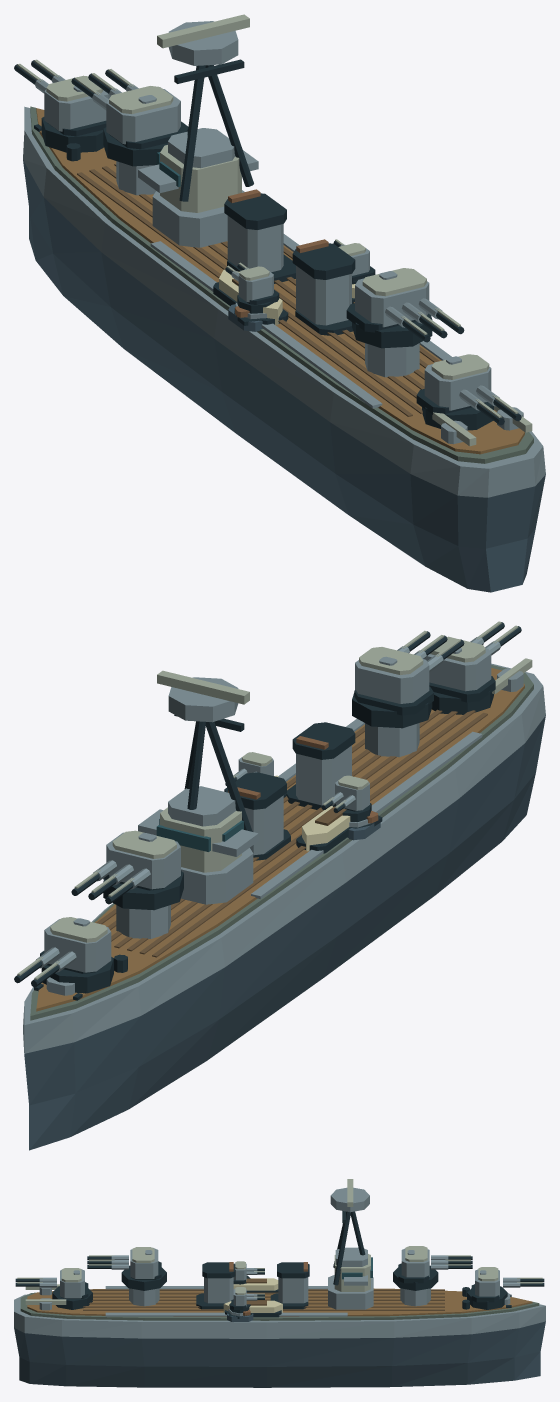
File: historic-pensacola.glb
3 renders of one model, top to bottom at view 1: azimuth 30°, elevation 25°; view 2: azimuth 150°, elevation 25°; view 3: azimuth 270°, elevation 25°, orthographic. The views are drawn at different scales.
Visible parts, largest first — view 1: historic-pensacola-historic-pensacola-geometry, historic-pensacola-part_bridge.091-geometry, historic-pensacola-turret_main_2.051-geometry, historic-pensacola-turret_main_1.058-geometry, historic-pensacola-turret_main_3.033-geometry, historic-pensacola-historic_funnel_1.043-geometry, historic-pensacola-historic_funnel_0.089-geometry, historic-pensacola-turret_main_0.062-geometry, historic-pensacola-turret_aa_aa-port.093-geometry, historic-pensacola-turret_aa_aa-starboard.089-geometry; view 2: historic-pensacola-historic-pensacola-geometry, historic-pensacola-part_bridge.091-geometry, historic-pensacola-turret_main_2.051-geometry, historic-pensacola-turret_main_1.058-geometry, historic-pensacola-turret_main_0.062-geometry, historic-pensacola-turret_main_3.033-geometry, historic-pensacola-historic_funnel_1.043-geometry, historic-pensacola-historic_funnel_0.089-geometry, historic-pensacola-turret_aa_aa-port.093-geometry, historic-pensacola-turret_aa_aa-starboard.089-geometry; view 3: historic-pensacola-historic-pensacola-geometry, historic-pensacola-part_bridge.091-geometry, historic-pensacola-turret_main_1.058-geometry, historic-pensacola-turret_main_2.051-geometry, historic-pensacola-turret_main_0.062-geometry, historic-pensacola-turret_main_3.033-geometry, historic-pensacola-historic_funnel_1.043-geometry, historic-pensacola-historic_funnel_0.089-geometry, historic-pensacola-turret_aa_aa-starboard.089-geometry, historic-pensacola-turret_aa_aa-port.093-geometry.
Boxes of the visible parts, x1,y1,x2,y2 form: historic-pensacola-historic-pensacola-geometry: (23, 106, 545, 592); historic-pensacola-part_bridge.091-geometry: (138, 14, 258, 247); historic-pensacola-turret_main_2.051-geometry: (346, 268, 464, 348); historic-pensacola-turret_main_1.058-geometry: (71, 69, 188, 166); historic-pensacola-turret_main_3.033-geometry: (416, 354, 521, 430); historic-pensacola-historic_funnel_1.043-geometry: (292, 239, 355, 335); historic-pensacola-historic_funnel_0.089-geometry: (224, 189, 295, 283); historic-pensacola-turret_main_0.062-geometry: (14, 59, 109, 152); historic-pensacola-turret_aa_aa-port.093-geometry: (225, 262, 279, 313); historic-pensacola-turret_aa_aa-starboard.089-geometry: (333, 239, 375, 284); historic-pensacola-historic-pensacola-geometry: (23, 658, 545, 1150); historic-pensacola-part_bridge.091-geometry: (138, 670, 258, 904); historic-pensacola-turret_main_2.051-geometry: (352, 630, 464, 728); historic-pensacola-turret_main_1.058-geometry: (71, 830, 183, 910); historic-pensacola-turret_main_0.062-geometry: (14, 917, 113, 993); historic-pensacola-turret_main_3.033-geometry: (425, 621, 521, 714); historic-pensacola-historic_funnel_1.043-geometry: (286, 722, 355, 809); historic-pensacola-historic_funnel_0.089-geometry: (224, 772, 290, 860); historic-pensacola-turret_aa_aa-port.093-geometry: (321, 775, 371, 822); historic-pensacola-turret_aa_aa-starboard.089-geometry: (225, 752, 273, 785); historic-pensacola-historic-pensacola-geometry: (14, 1278, 545, 1387); historic-pensacola-part_bridge.091-geometry: (328, 1179, 373, 1309); historic-pensacola-turret_main_1.058-geometry: (393, 1246, 472, 1290); historic-pensacola-turret_main_2.051-geometry: (87, 1247, 166, 1290); historic-pensacola-turret_main_0.062-geometry: (467, 1267, 544, 1309); historic-pensacola-turret_main_3.033-geometry: (15, 1268, 92, 1309); historic-pensacola-historic_funnel_1.043-geometry: (196, 1262, 235, 1309); historic-pensacola-historic_funnel_0.089-geometry: (270, 1262, 309, 1309); historic-pensacola-turret_aa_aa-starboard.089-geometry: (229, 1287, 264, 1313); historic-pensacola-turret_aa_aa-port.093-geometry: (233, 1261, 264, 1284).
Bounding box in the file's own units: 0.7122 × 1.66 × 4.32.
